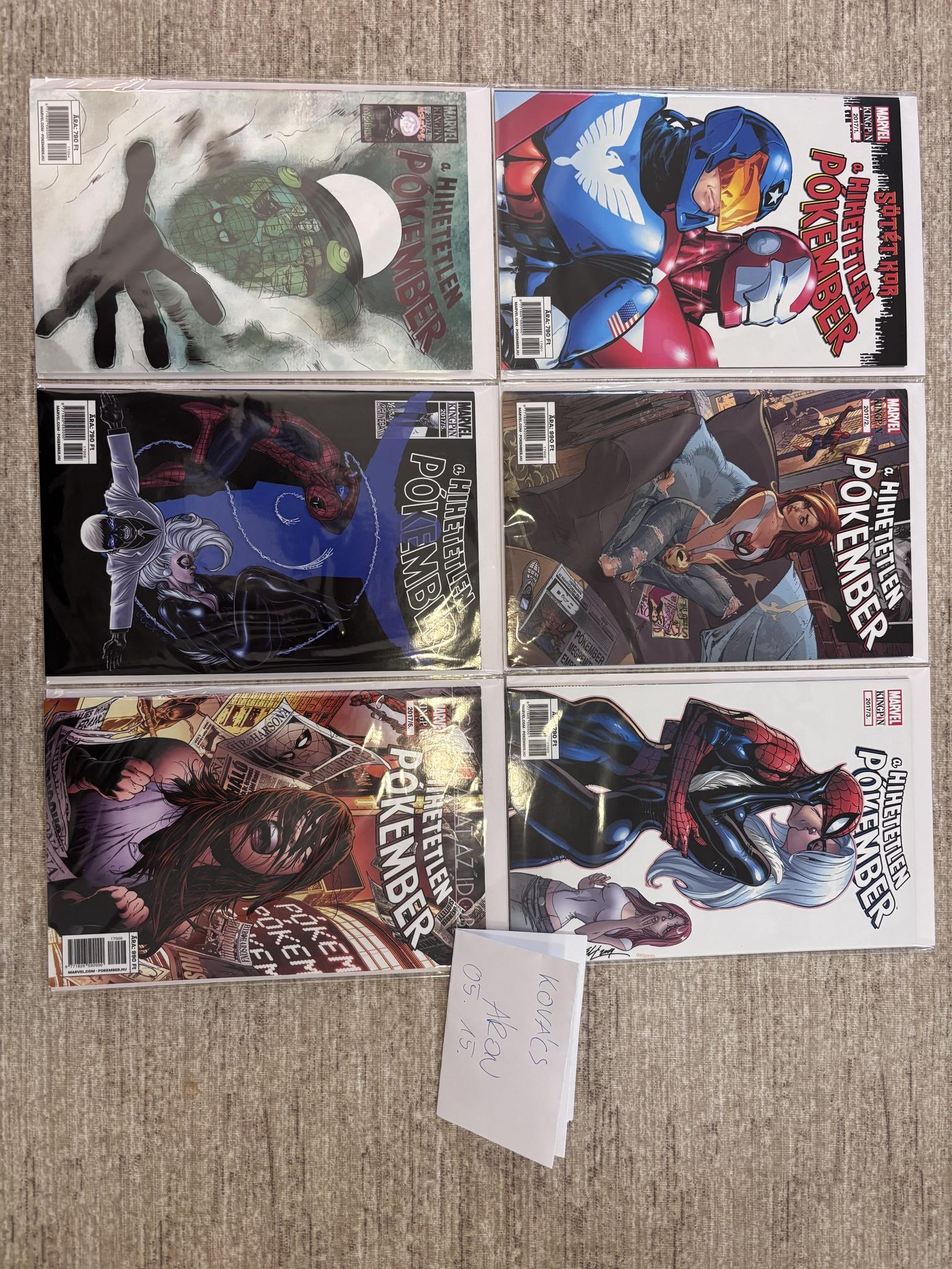comic: (36, 677, 495, 987), (30, 79, 495, 377), (38, 385, 482, 678), (502, 665, 937, 963), (501, 377, 929, 669), (495, 89, 922, 374)
